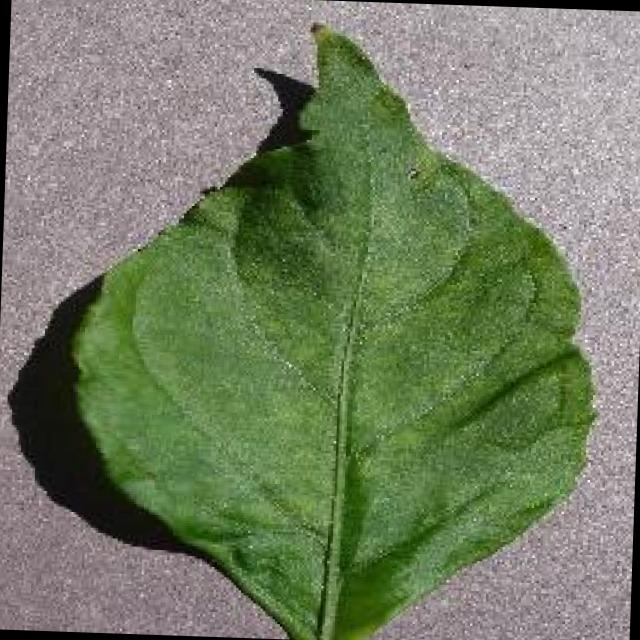Chilli_Healthy: (56, 9, 610, 640)
